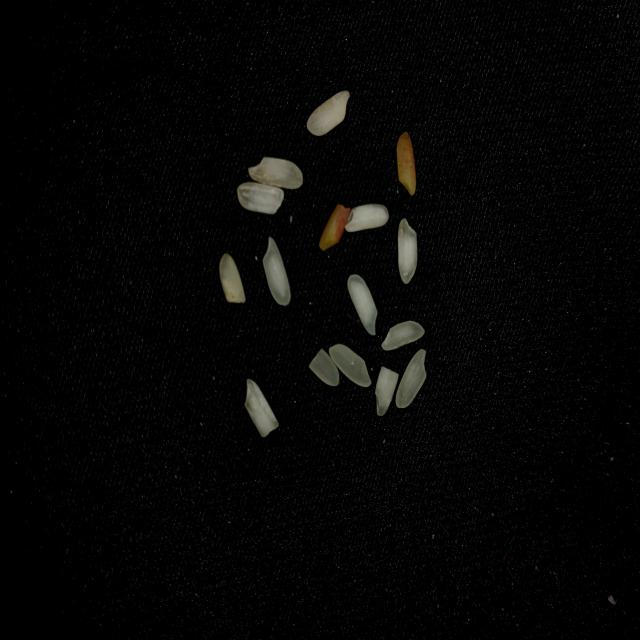Broken: (244, 379, 278, 437), (236, 182, 283, 215), (318, 204, 350, 250), (218, 254, 244, 304), (396, 132, 416, 196), (374, 366, 398, 416), (308, 348, 338, 386)
Full: (306, 90, 350, 136), (262, 238, 290, 306), (328, 343, 370, 388), (346, 274, 376, 336), (395, 349, 425, 408), (247, 158, 302, 190), (396, 218, 416, 284), (381, 321, 424, 351), (344, 204, 388, 232)
